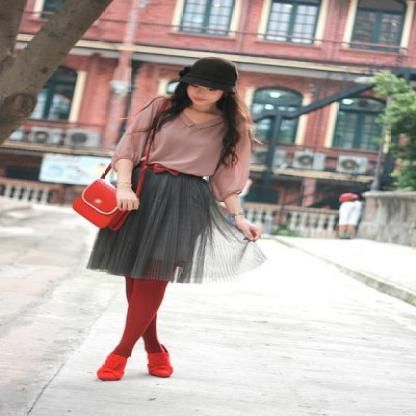bag: (73, 180, 136, 230)
hat: (172, 50, 236, 96)
shirt: (88, 91, 266, 204)
shoe: (96, 358, 172, 380)
skirt: (87, 162, 236, 284)
sunglass: (133, 180, 141, 208)
